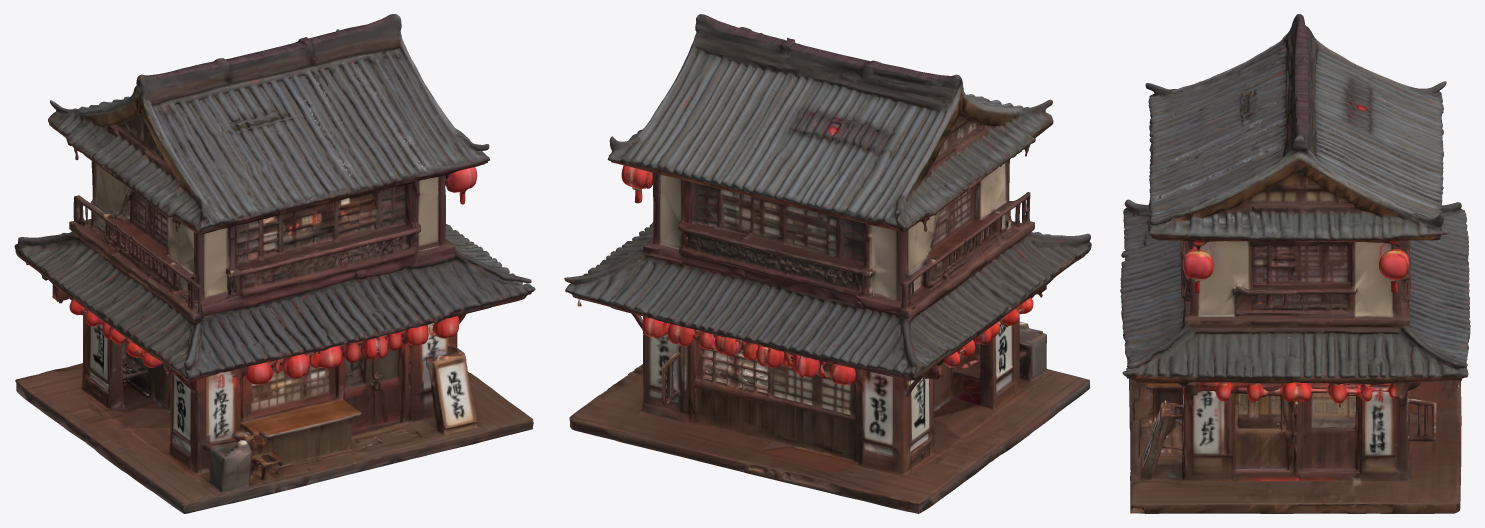
The model's file is bq_shop_lantern.hd.glb.
3 renders of one model, left to right at view 1: azimuth 30°, elevation 25°; view 2: azimuth 150°, elevation 25°; view 3: azimuth 270°, elevation 25°, orthographic. The views are drawn at different scales.
Bounding box in the file's own units: 1.99 × 1.98 × 1.77.
Materials: 1 (1 with a texture image).
